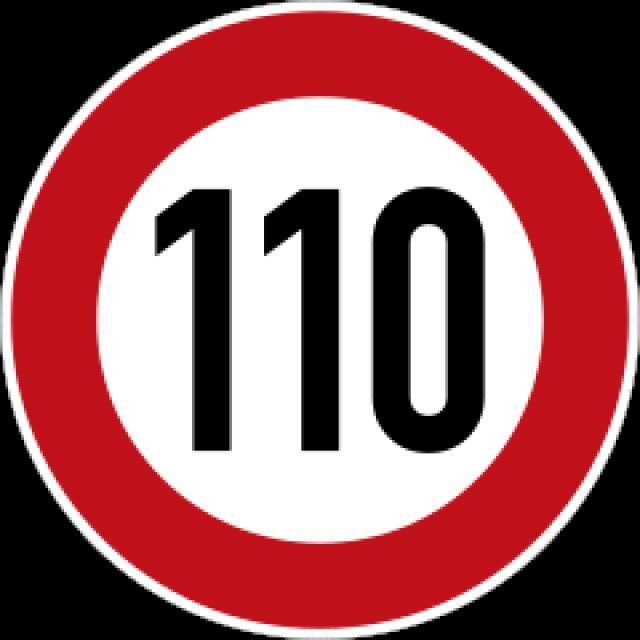Speed Limit -110-: (154, 185, 489, 454)
